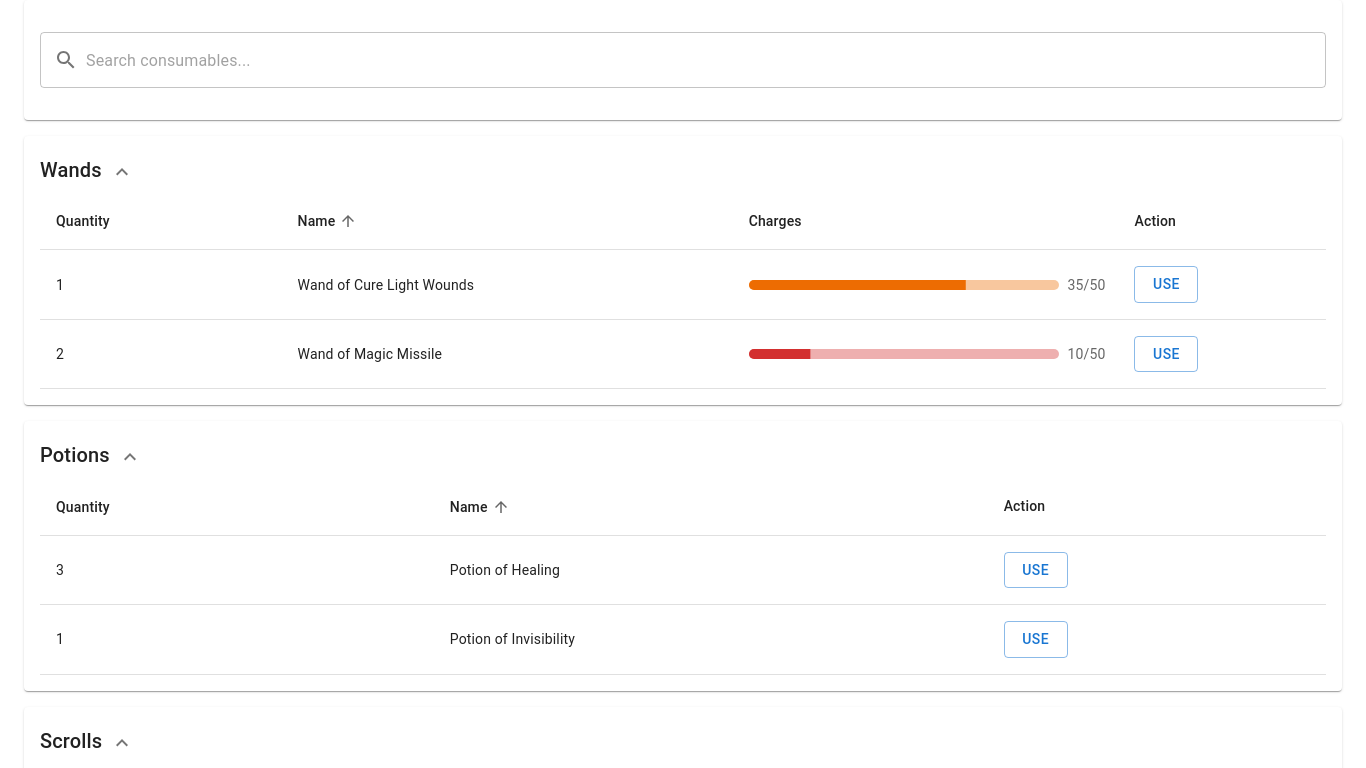
it: Consumables › shows the server message when using a consumable fails (F-1116)
Check: the text "Potion of Healing" is shown, box [434,535,988,605]
Click the button "Use" in the row of "Wand of Cure Light Wounds": [1166, 285] box [1134,266,1198,303]
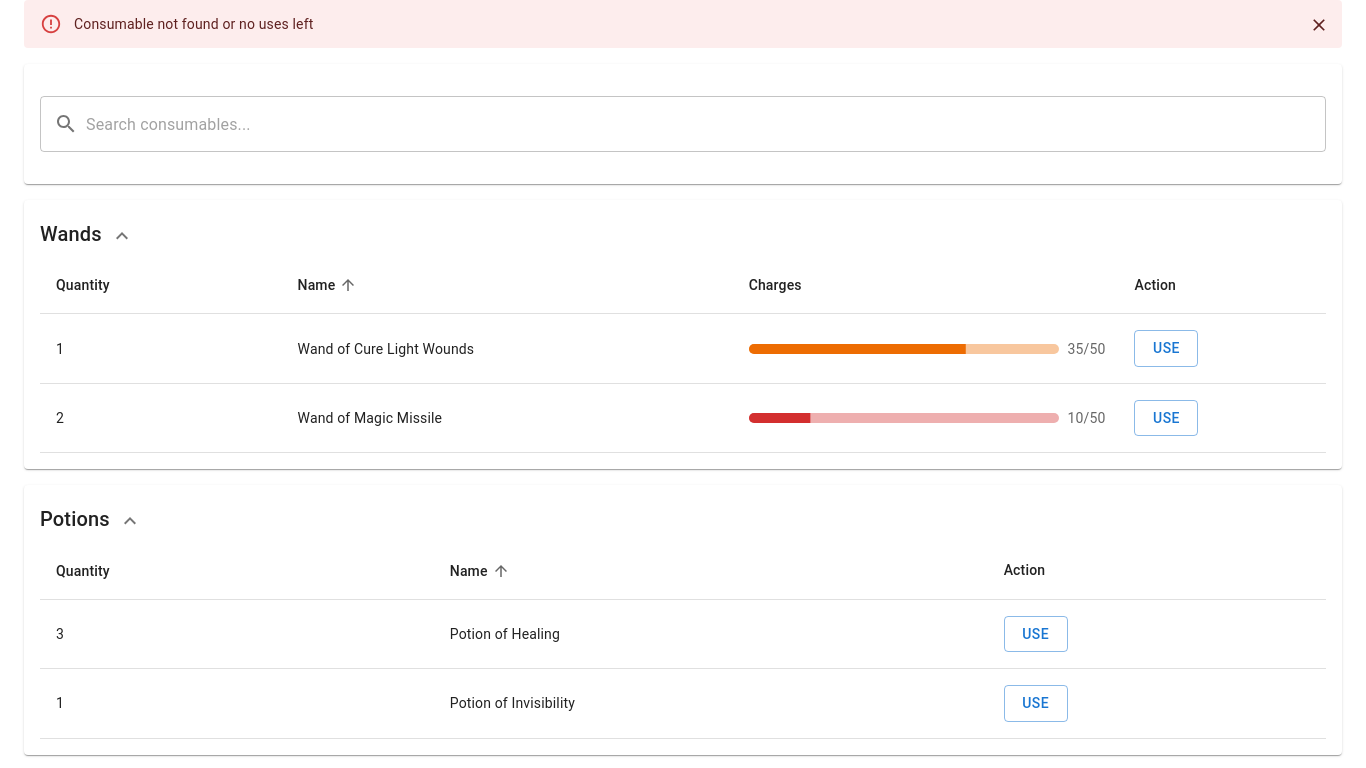
Check: the text "Consumable not found or no uses left" is shown, box [74,16,313,32]
